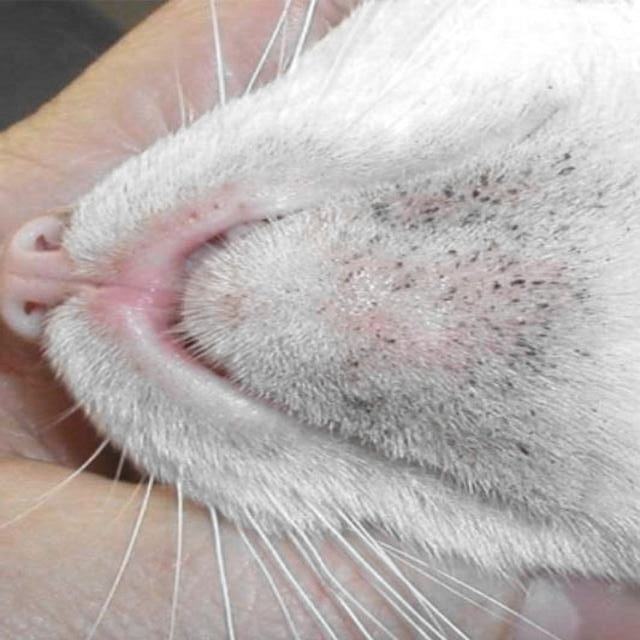acne: (302, 147, 591, 457)
